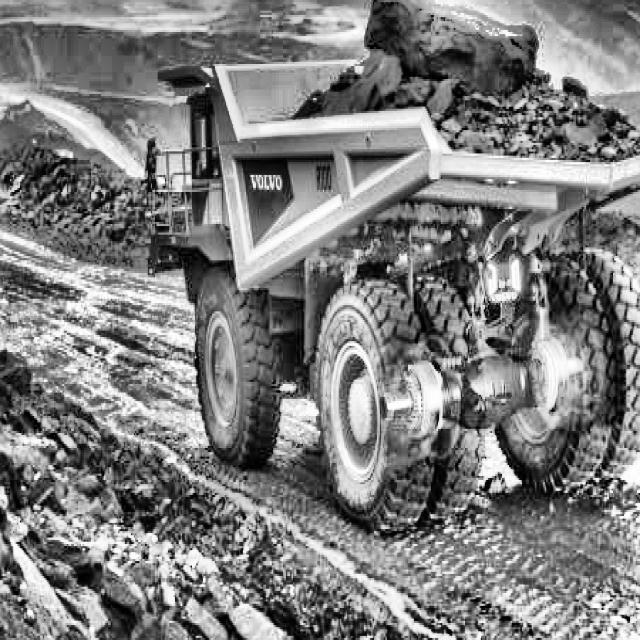dump_truck: (136, 0, 640, 550)
